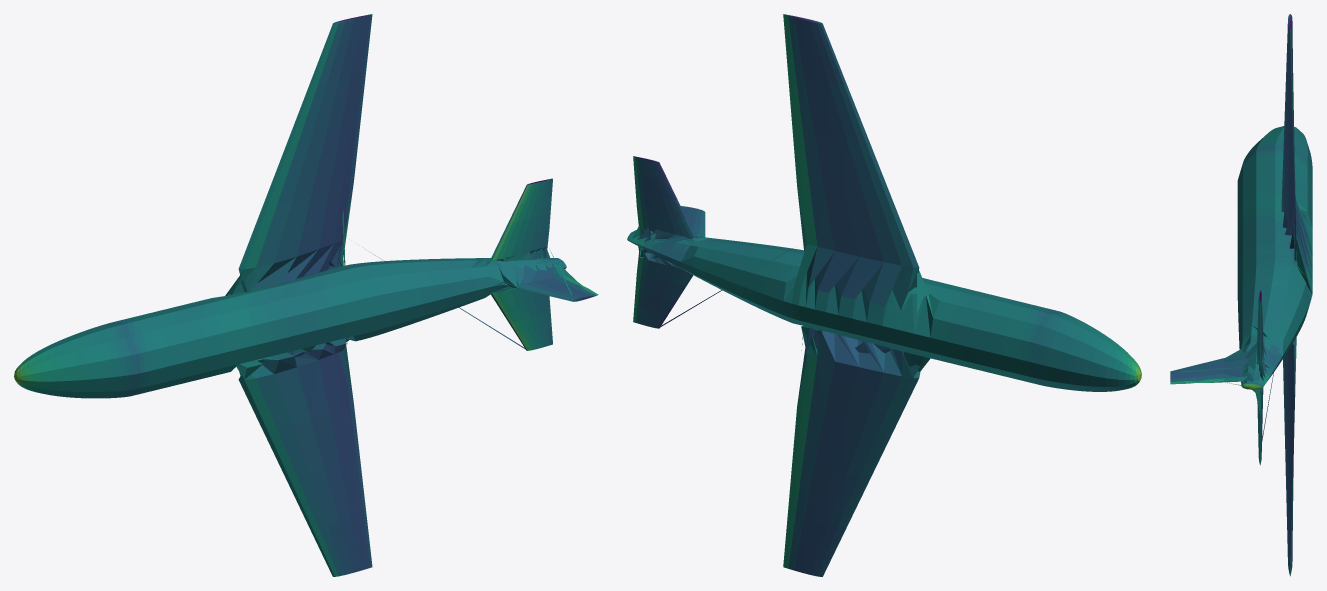
File: neg2.glb
The picture shows the model from 3 angles, left to right: view 1: azimuth 30°, elevation 25°; view 2: azimuth 150°, elevation 25°; view 3: azimuth 270°, elevation 25°; orthographic projection.
Visible parts, largest first — view 1: Shape_IndexedFaceSet; view 2: Shape_IndexedFaceSet; view 3: Shape_IndexedFaceSet.
Boxes of the visible parts, x1,y1,x2,y2 form: Shape_IndexedFaceSet: (14,14,598,576); Shape_IndexedFaceSet: (627,14,1141,576); Shape_IndexedFaceSet: (1170,14,1312,576).
Size of the model in its own units: 40 by 40 by 9.5.
